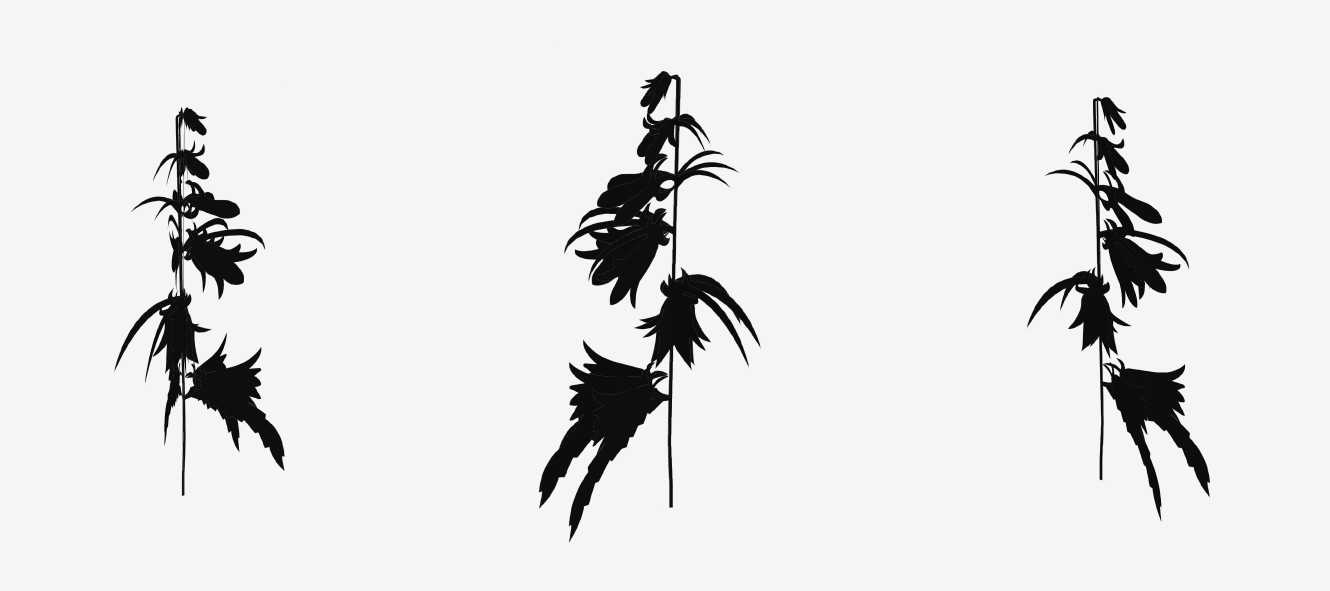
Rendered from FlowerBell.glb.
3 renders of one model, left to right at view 1: azimuth 30°, elevation 25°; view 2: azimuth 150°, elevation 25°; view 3: azimuth 270°, elevation 25°, orthographic. The views are drawn at different scales.
Parts seen in each view (by area): view 1: Plane.003; view 2: Plane.003; view 3: Plane.003.
Part boxes in pixels (left/top/right/bottom): Plane.003: left=114, top=107, right=284, bottom=495; Plane.003: left=539, top=71, right=760, bottom=541; Plane.003: left=1027, top=97, right=1209, bottom=521.
Size of the model in its own units: 2 by 2 by 1.87.
1 material, 1 textured.
